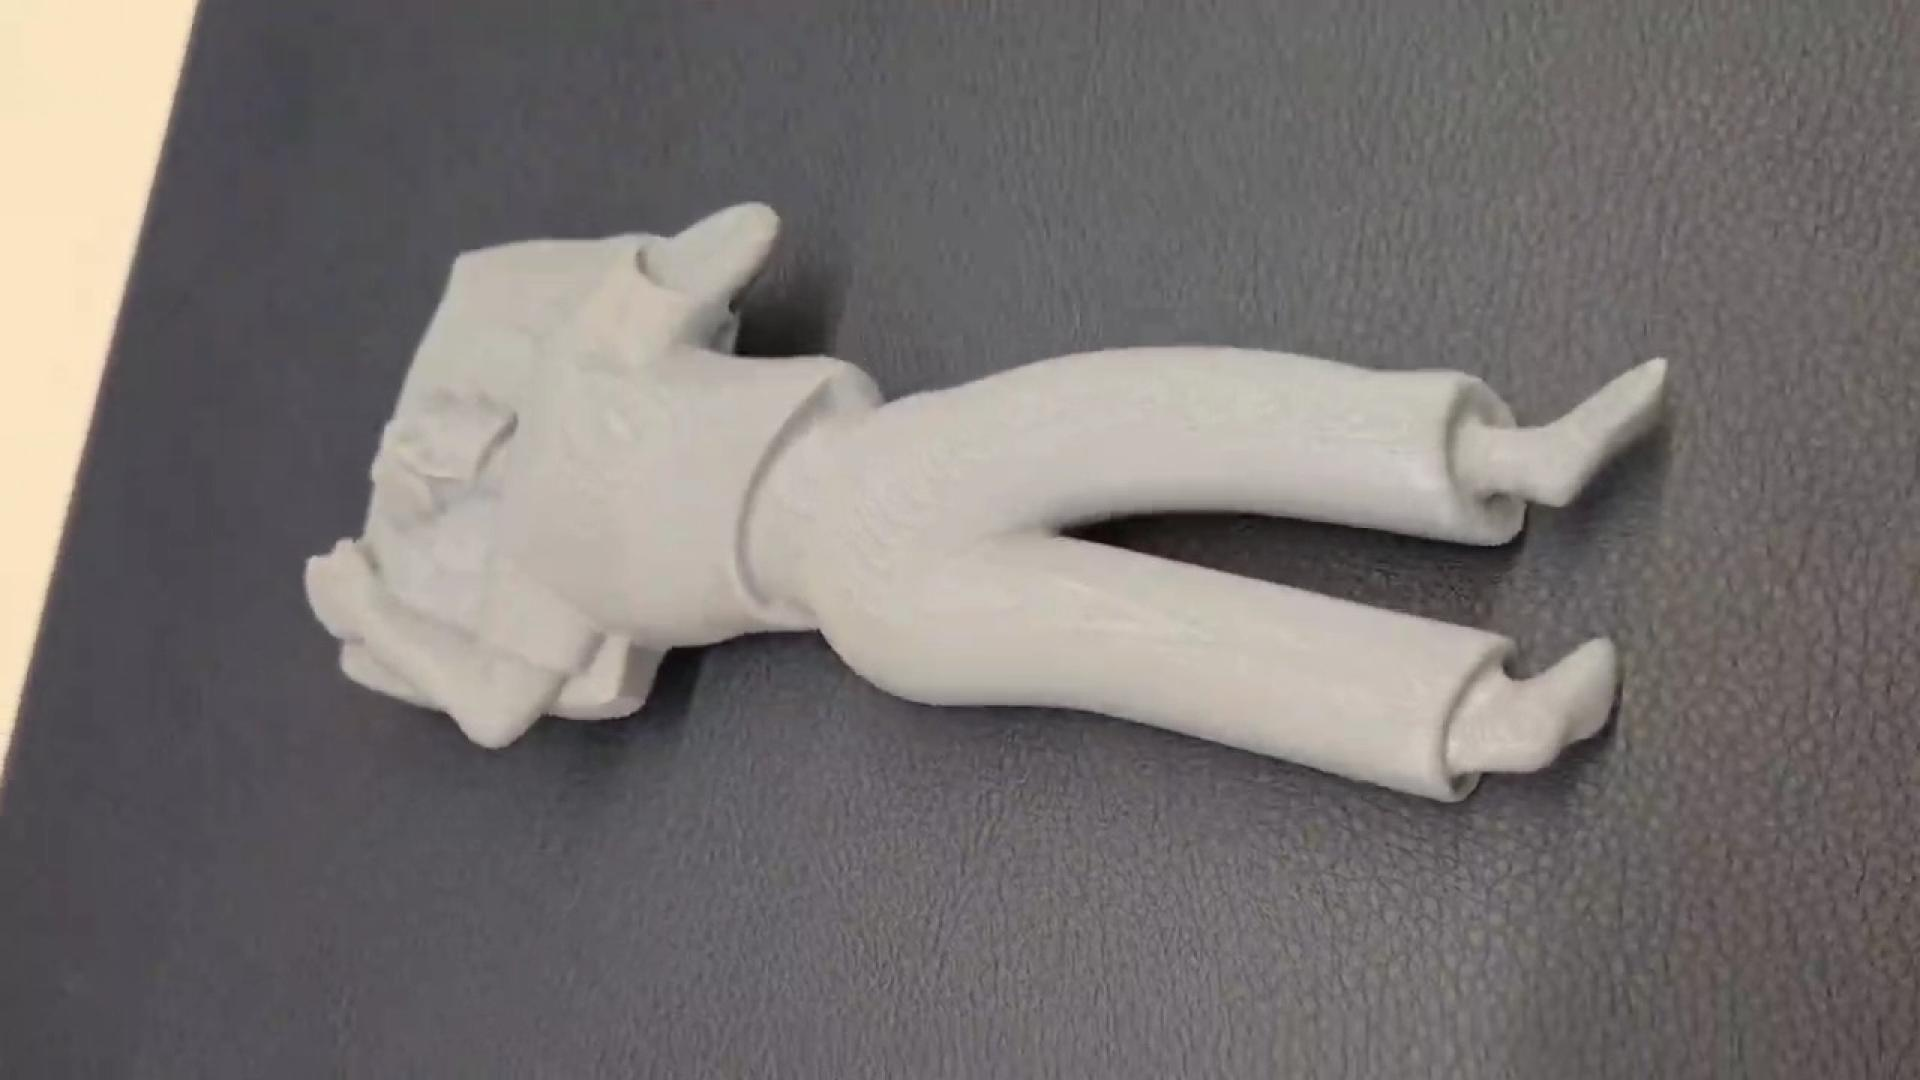Bad-style: (301, 189, 1676, 818)
